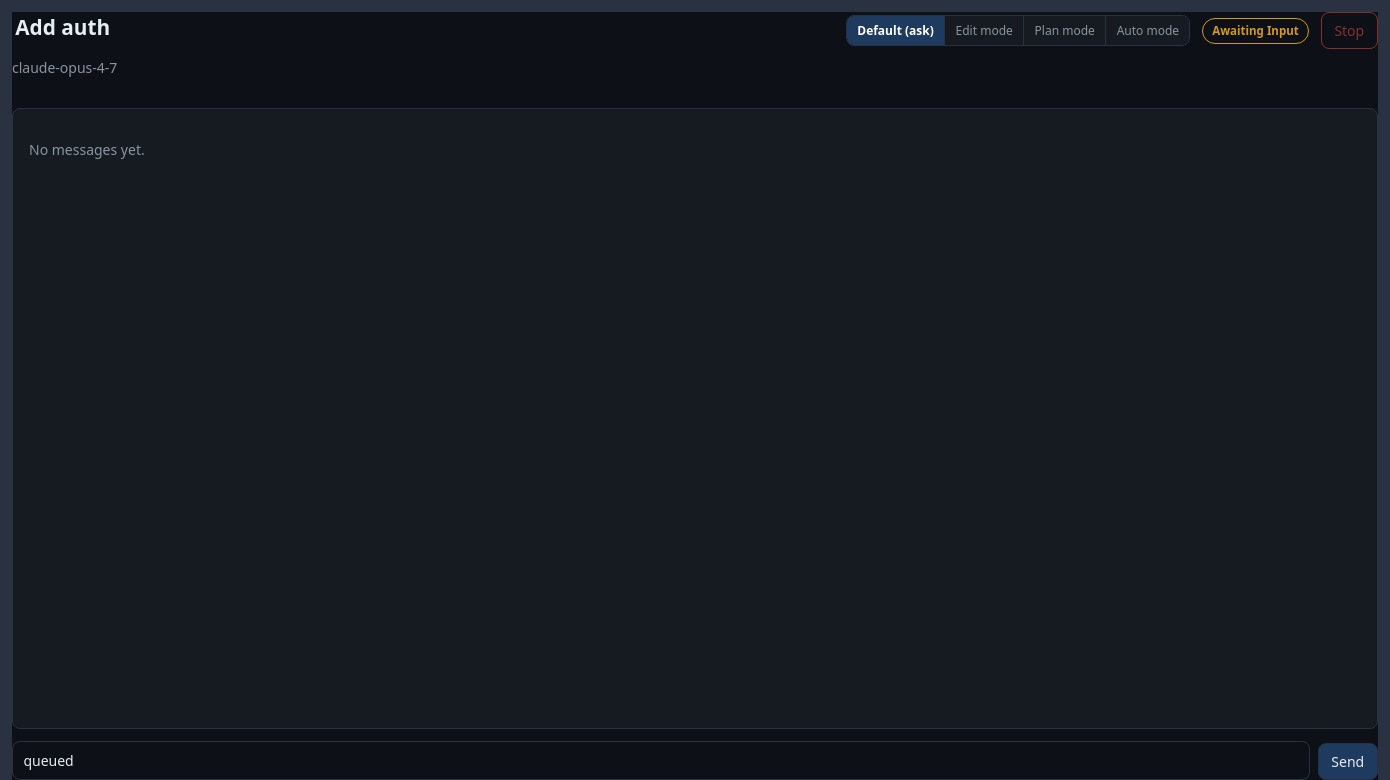
Test: SessionView composer › renames the session via the title and persists on Enter
The image size is (1390, 780).
Click the heading "Add auth": click(65, 28) [12, 12, 117, 43]
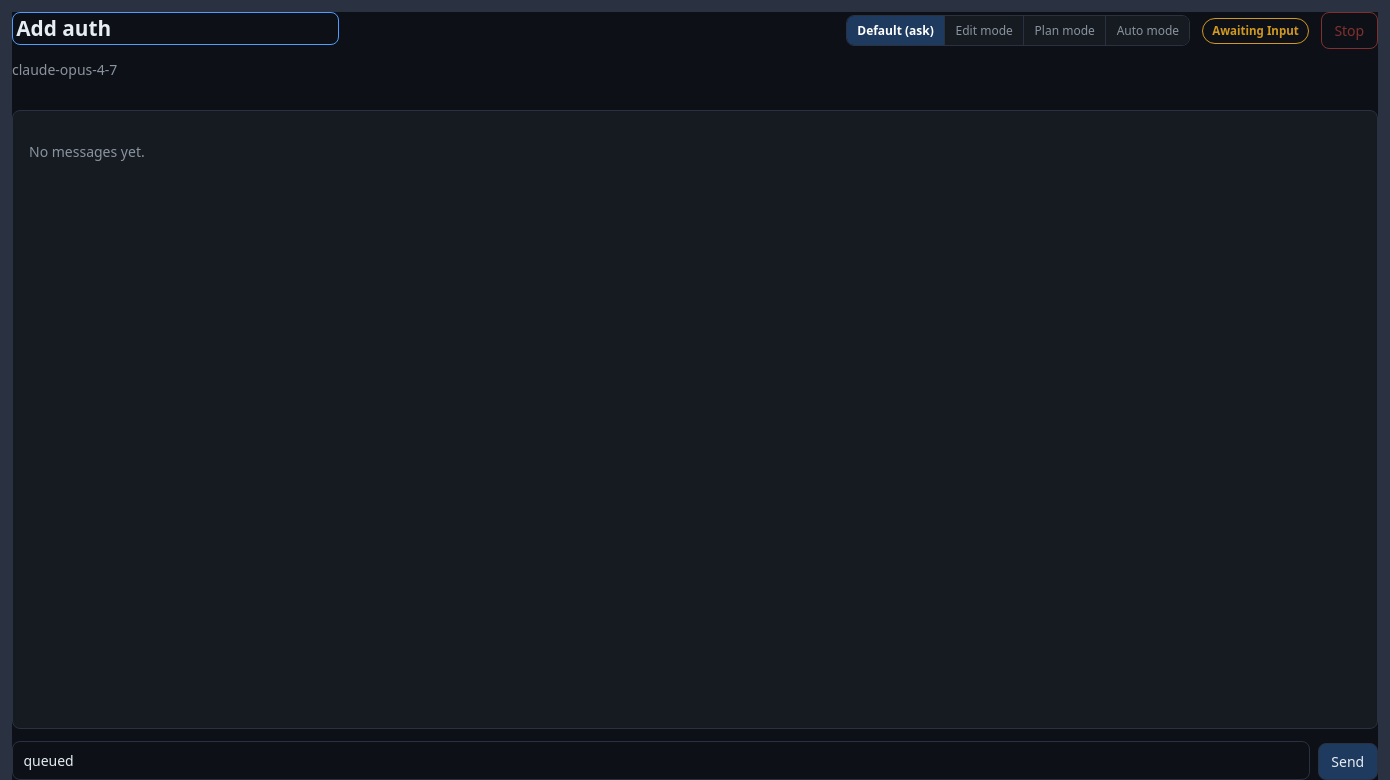
Replace the text in the field named "Session title" with "My new name": (176, 29) [12, 12, 339, 45]
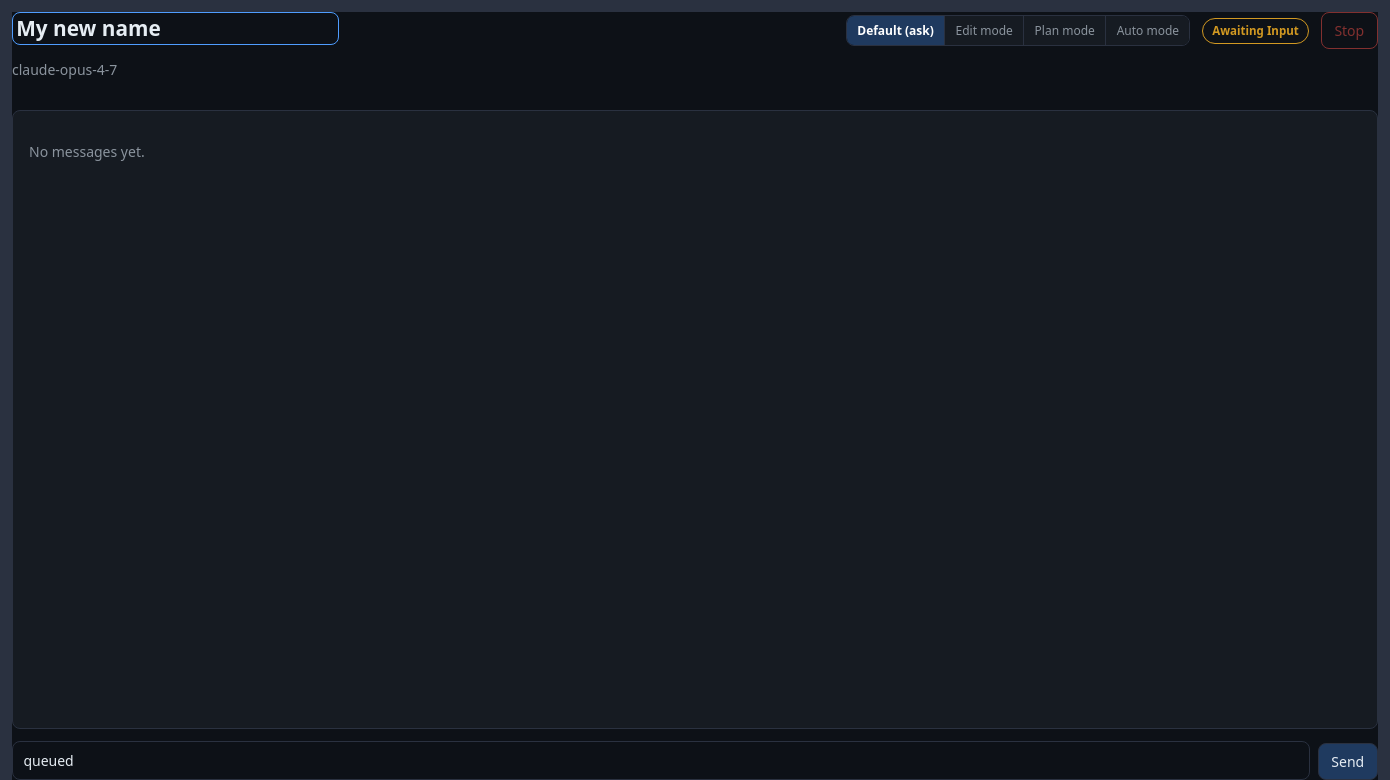
Press Enter in the field named "Session title", box [12, 12, 339, 45]
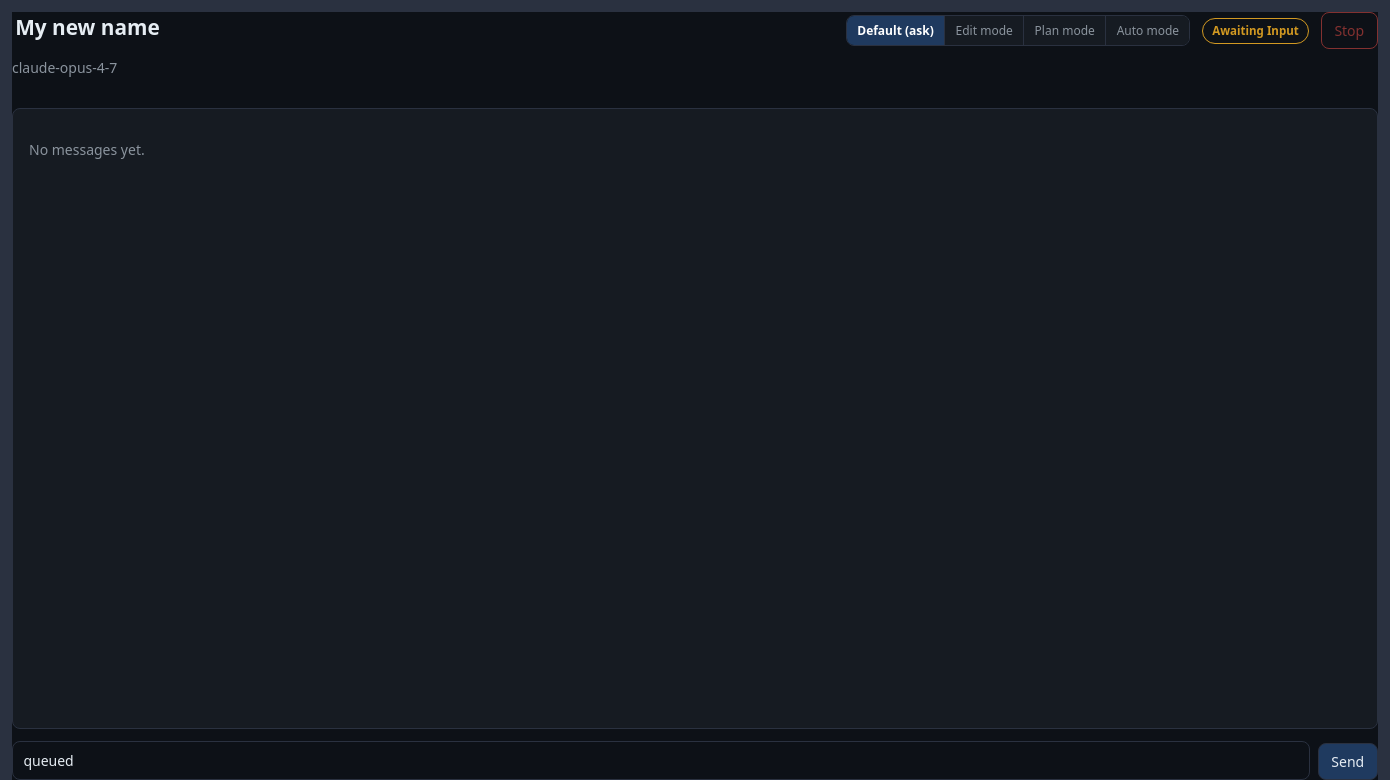
Result: the heading "My new name" is shown at [12, 12, 163, 43]
